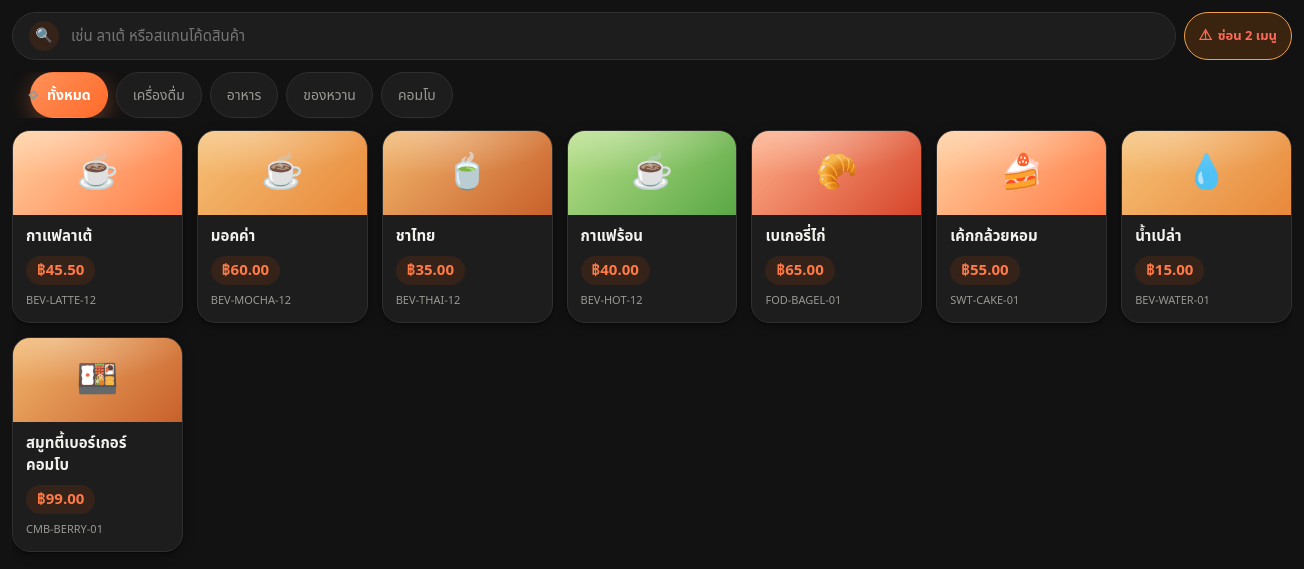
Test case: CatalogBrowser — the search box › offers a clear control only while there is something to clear
The image size is (1304, 569).
Expected: the button "ล้างคำค้น" is not shown
Type "ลาเต้" into the search field named "ค้นหาเมนู" at (614, 36), box [69,24,1159,48]
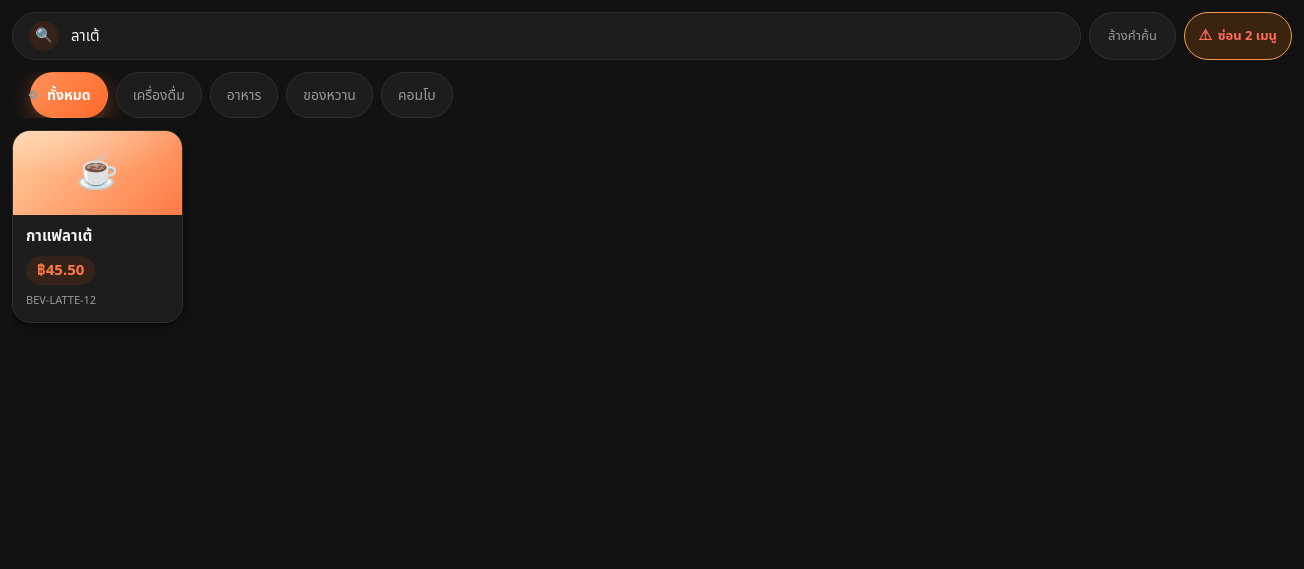
Now the button "ล้างคำค้น" is shown
Click the button "ล้างคำค้น" at (1133, 36), box [1089,12,1176,60]
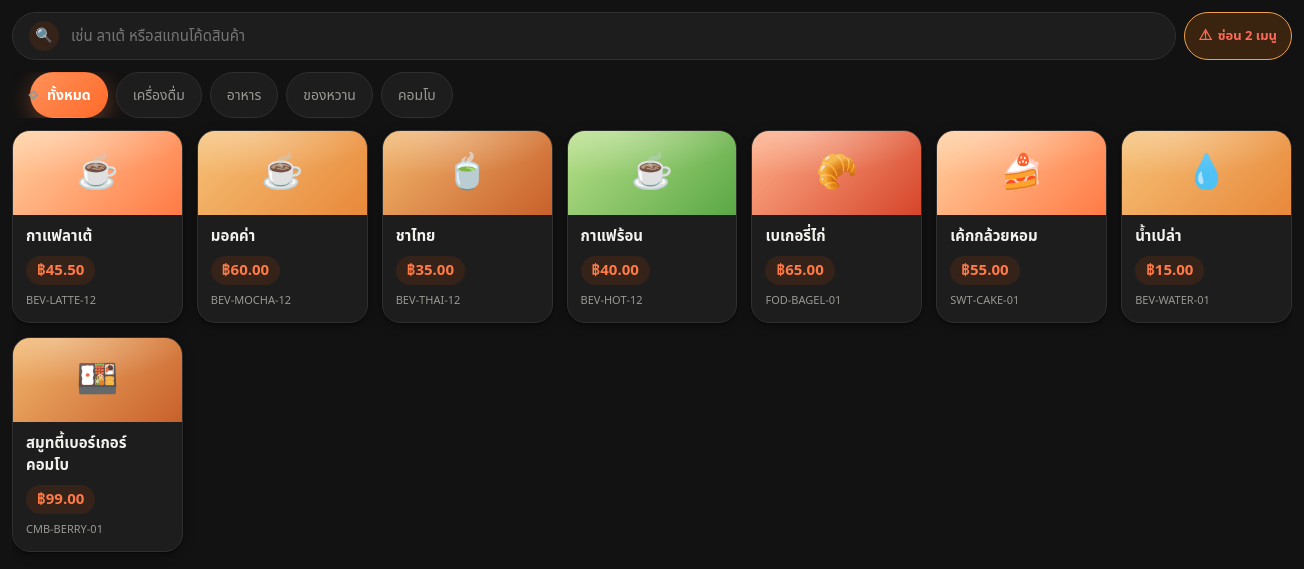
Now the button "ล้างคำค้น" is gone
